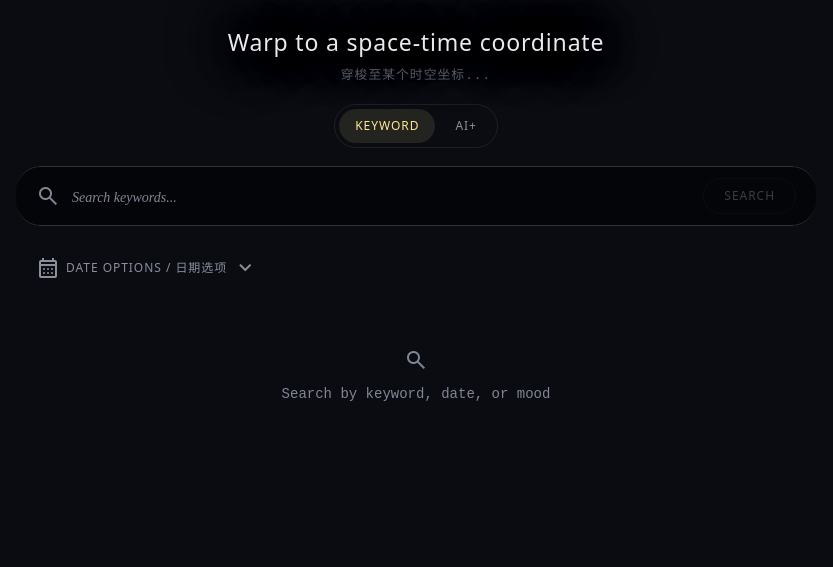
Scenario: Recall › renders UNGROUNDED answers with text and reason instead of hiding the answer
This screenshot has width=833, height=567.
Click the tab with test id "tab-agent" at coordinates (466, 126), box [439,109,493,143]
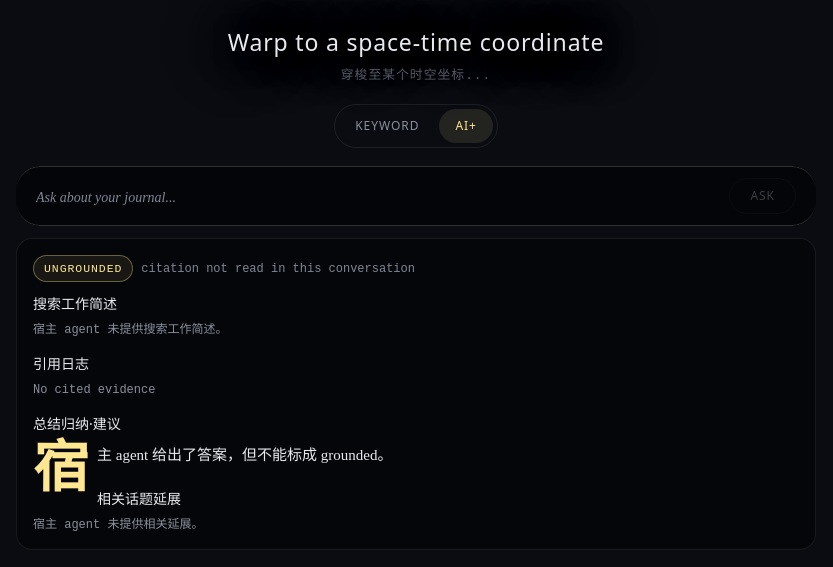
Check: the element with test id "host-agent-answer" shows "宿主 agent 给出了答案", box [33,438,392,500]
Check: the text with test id "host-agent-mode-badge" reads "UNGROUNDED", box [44,262,122,275]
Check: the text with test id "host-agent-reason" reads "citation not read in this conversation", box [141,262,415,276]
